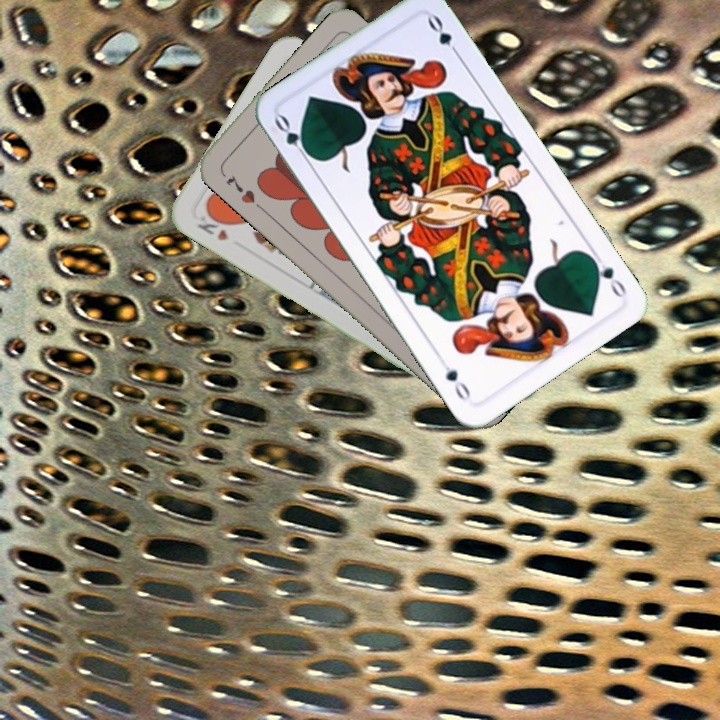GO: (270, 111, 316, 164), (586, 249, 630, 301)
H7: (222, 170, 266, 212)
HK: (193, 207, 233, 244)
